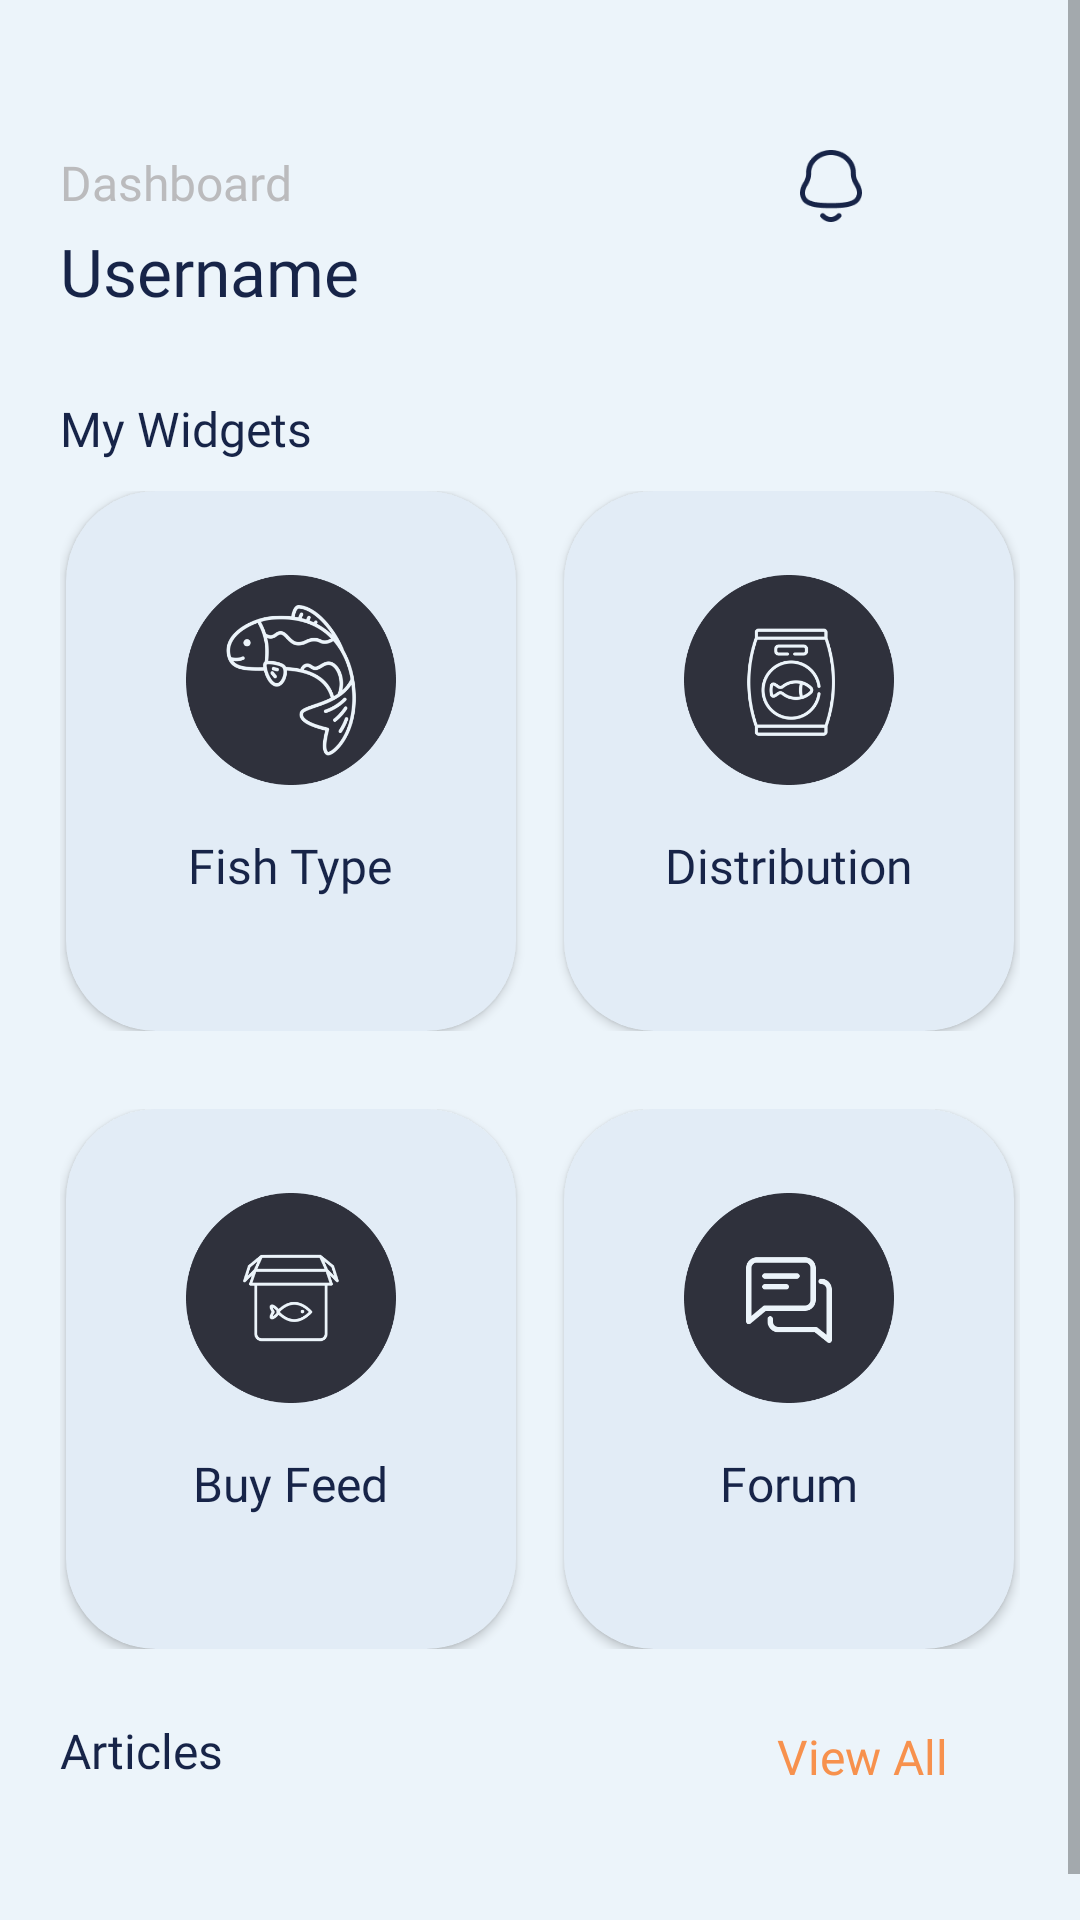

Icon bounding boxes for this 1080w x 1920h phone screenshot, format {"left": x1, "top": y1, "right": x2, "bottom": y2}:
box: {"left": 186, "top": 1193, "right": 396, "bottom": 1403}
notif: {"left": 800, "top": 150, "right": 862, "bottom": 222}
